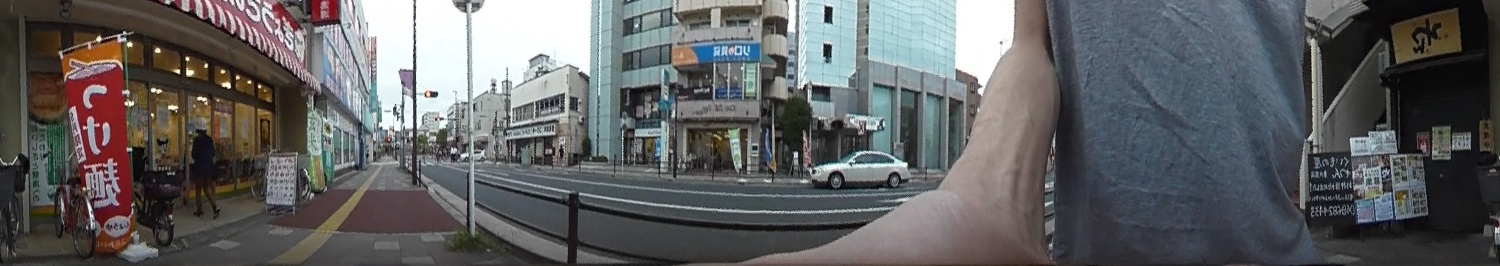difficult_person: (555, 142, 565, 163)
person: (187, 115, 222, 214)
